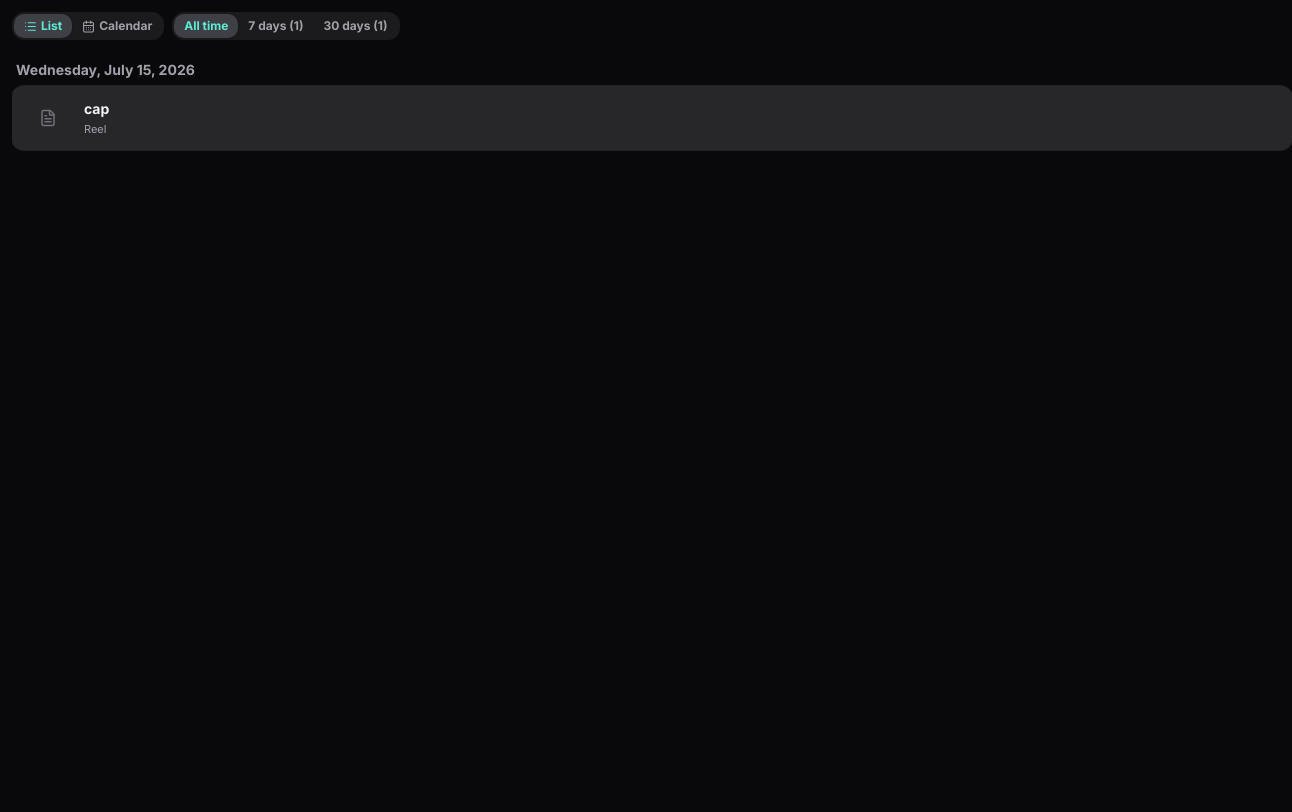
Test: Published views (US-PUB-11) › hides the relative-days range control in calendar view (it conflicts with month navigation)
Expected: the button "7 days (1)" is shown, x1=238 y1=14 x2=314 y2=38
Click the button "Calendar".
click(117, 26)  # box x1=72 y1=14 x2=162 y2=38
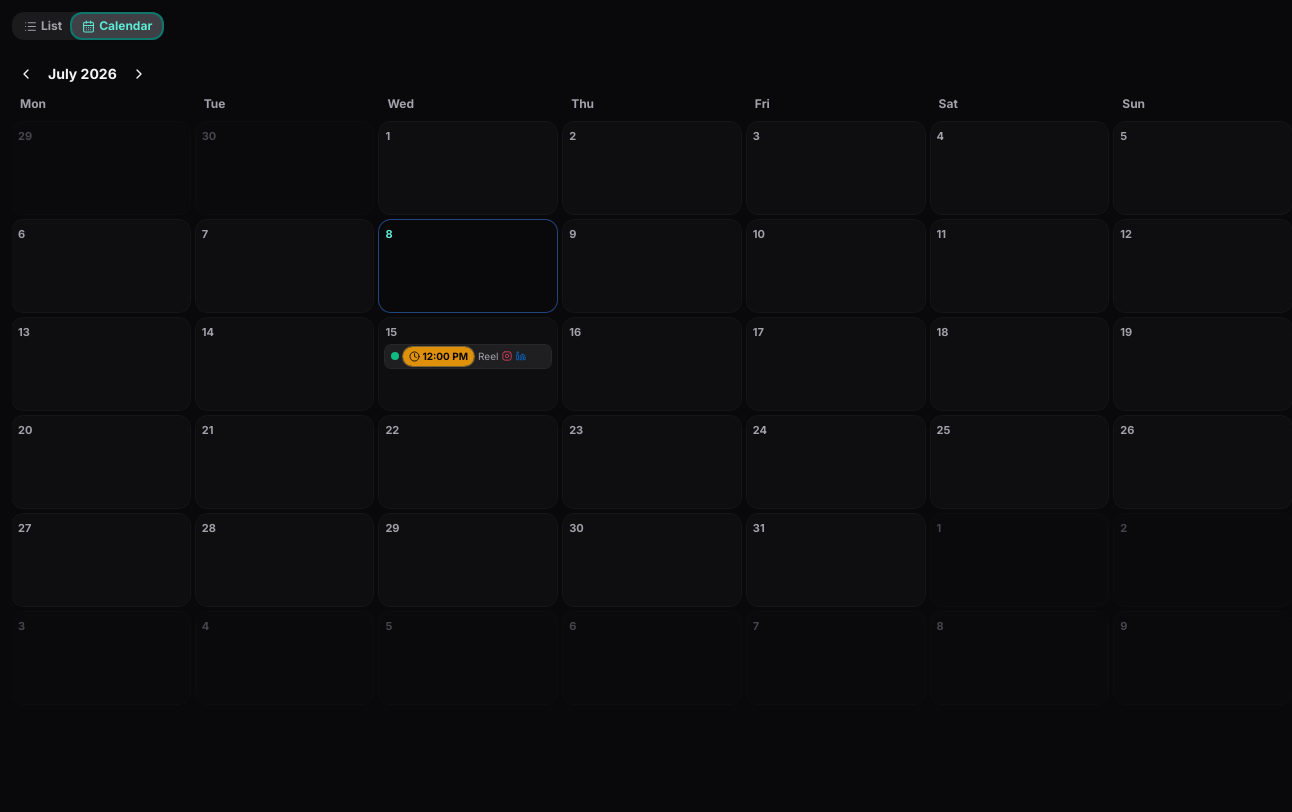
Now the button "7 days" is gone
Now the button named "previous month" is shown, box x1=12 y1=60 x2=40 y2=88
